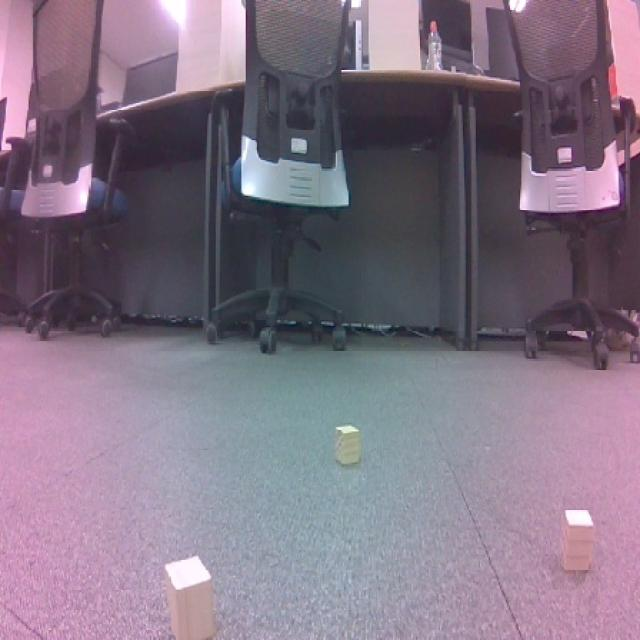obstacle: (159, 551, 230, 640), (554, 506, 602, 578), (325, 418, 365, 473)
